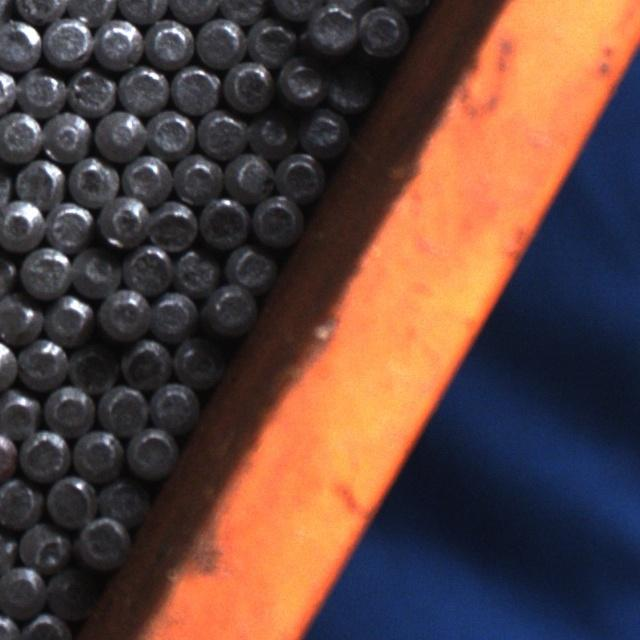tool: (72, 515, 130, 570), (95, 192, 149, 246), (96, 285, 148, 341), (66, 154, 120, 207), (71, 427, 123, 479), (121, 336, 173, 388), (197, 197, 249, 249), (45, 566, 97, 618), (203, 282, 256, 333), (173, 335, 224, 388), (69, 245, 120, 297), (222, 58, 272, 111), (94, 108, 145, 159), (43, 474, 94, 525), (355, 4, 406, 55), (147, 289, 197, 341), (98, 382, 148, 434), (123, 242, 173, 294), (250, 194, 300, 246), (18, 247, 69, 297), (44, 382, 95, 432), (18, 429, 68, 480), (41, 110, 91, 161), (19, 337, 69, 388), (172, 151, 222, 202), (275, 56, 325, 107), (126, 427, 176, 478), (67, 340, 118, 390), (93, 479, 144, 529), (20, 521, 70, 571), (66, 66, 116, 116), (118, 64, 168, 114), (306, 5, 356, 55), (14, 157, 65, 206), (43, 15, 92, 66), (44, 200, 93, 250), (93, 18, 142, 68), (196, 109, 246, 158), (16, 66, 66, 115), (274, 151, 323, 201), (148, 199, 196, 250), (146, 107, 195, 156), (123, 151, 172, 200), (225, 150, 274, 199), (225, 242, 274, 291), (150, 380, 199, 429), (299, 106, 348, 155), (44, 292, 92, 342), (246, 14, 294, 64), (196, 15, 243, 66), (170, 64, 218, 113), (145, 18, 193, 66), (247, 110, 295, 158), (0, 564, 45, 615), (171, 247, 219, 294), (324, 67, 372, 113), (0, 200, 44, 250), (0, 293, 42, 344), (0, 111, 41, 163), (0, 387, 41, 438), (0, 476, 41, 526), (0, 18, 40, 68), (22, 610, 74, 640), (66, 0, 116, 23), (14, 0, 66, 22), (116, 0, 166, 22), (219, 0, 268, 22), (169, 0, 219, 21), (270, 0, 322, 20)
